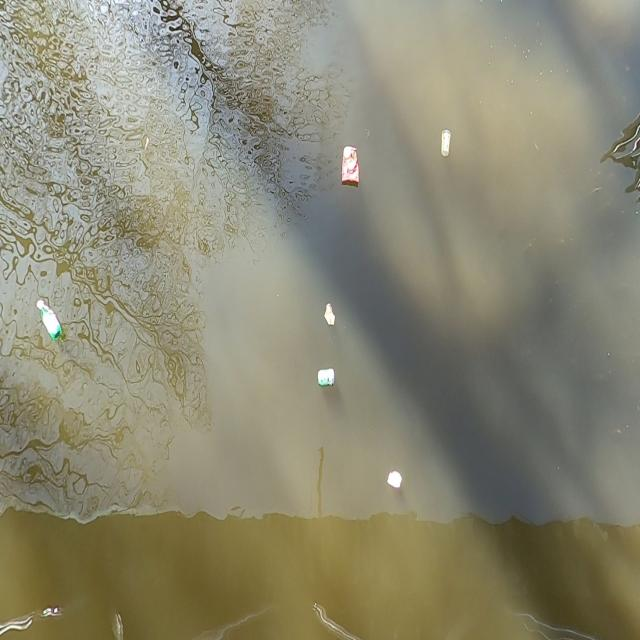Bouteille plastique: (33, 292, 63, 348)
Non plastique: (316, 368, 336, 392)
